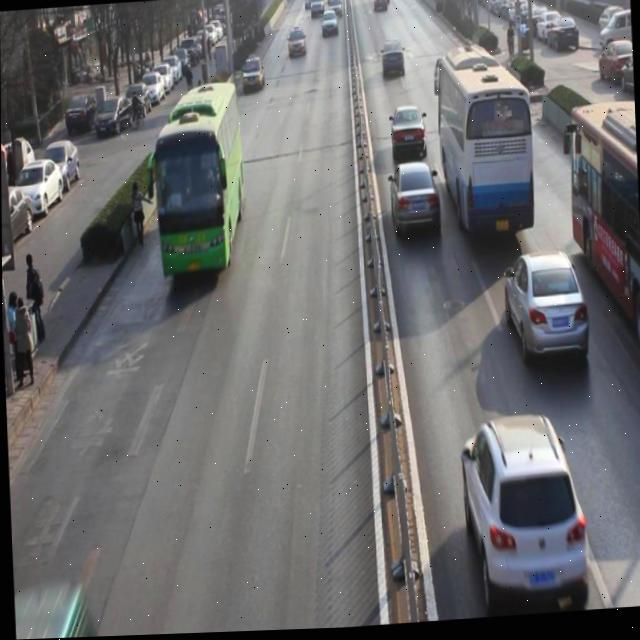car: (458, 413, 592, 619), (501, 247, 591, 373), (388, 162, 441, 242), (388, 104, 427, 162), (241, 58, 267, 98), (379, 43, 405, 82), (286, 30, 307, 62), (319, 13, 339, 42), (309, 0, 325, 23)
van: (565, 105, 640, 389), (435, 46, 534, 242), (150, 83, 246, 280)
